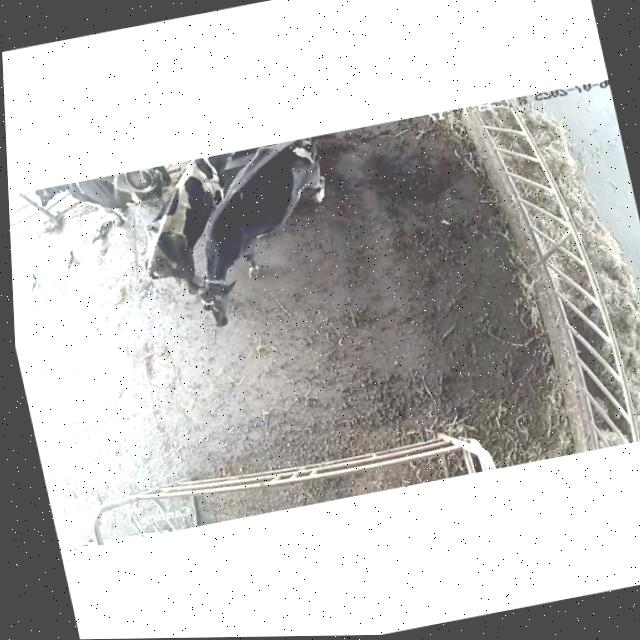drink: (184, 147, 254, 187)
stand: (169, 131, 373, 336), (22, 164, 176, 240)
